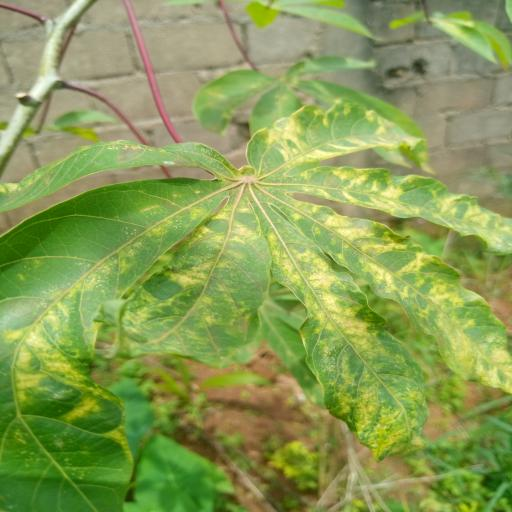Cassava_Mosaic: (0, 97, 512, 512)
